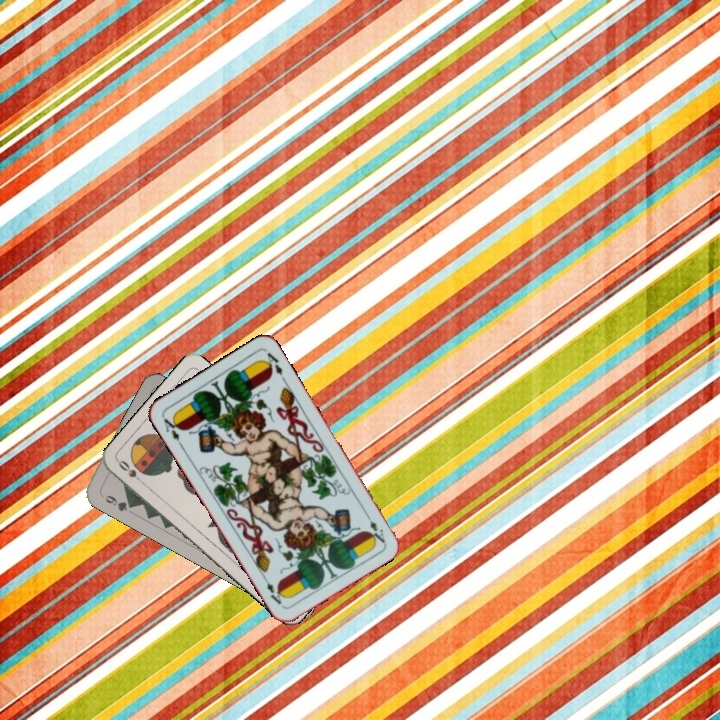EA: (158, 412, 185, 449), (361, 509, 388, 546)
G9: (97, 489, 137, 514)
SO: (114, 456, 148, 488)
